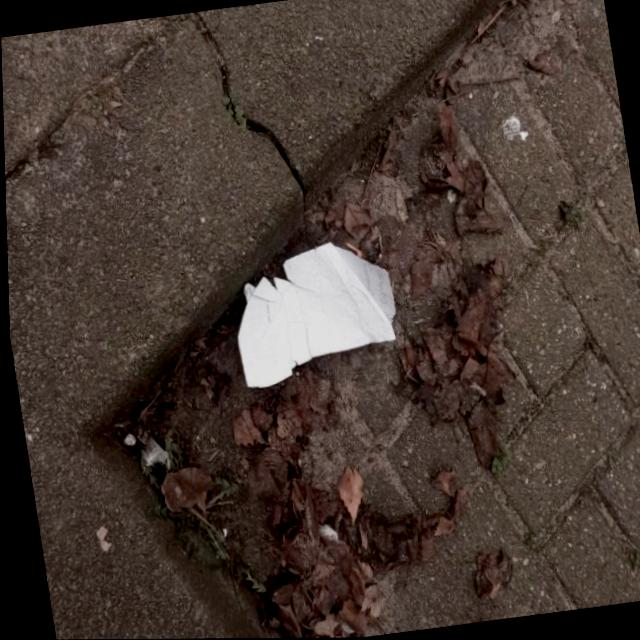Paper: (221, 234, 404, 391)
